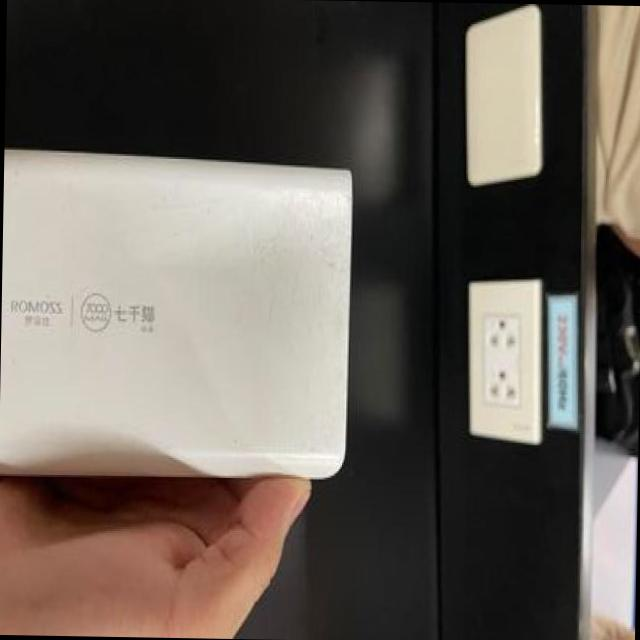power_bank: (0, 145, 356, 494)
